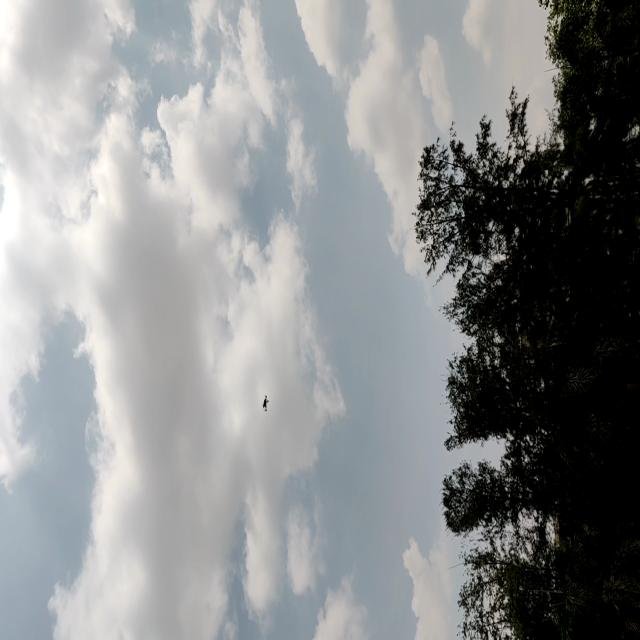drone: (258, 389, 271, 412)
